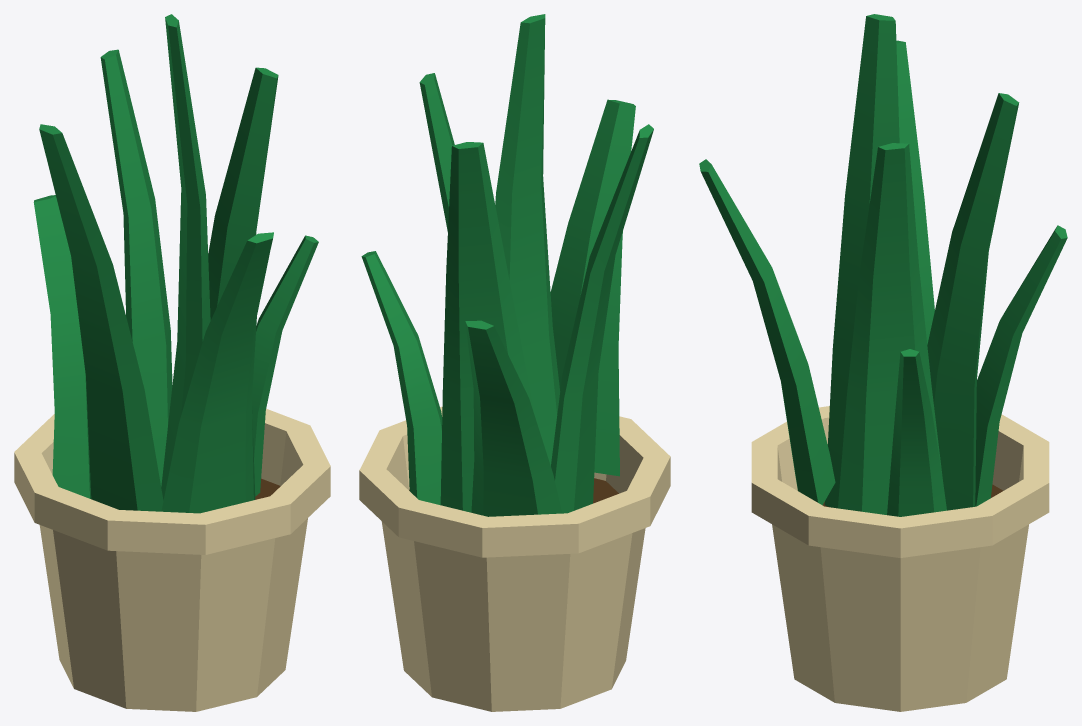
File: fbx_club_plant.fbx
The picture shows the model from 3 angles, left to right: view 1: azimuth 30°, elevation 25°; view 2: azimuth 150°, elevation 25°; view 3: azimuth 270°, elevation 25°; orthographic projection.
Parts seen in each view (by area): view 1: fbx_club_plant; view 2: fbx_club_plant; view 3: fbx_club_plant.
Boxes of the visible parts, x1=… form: fbx_club_plant: x1=14, y1=14, x2=330, y2=711; fbx_club_plant: x1=359, y1=14, x2=670, y2=711; fbx_club_plant: x1=699, y1=14, x2=1067, y2=711.
Bounding box in the file's own units: 0.5136 × 1.12 × 0.5822.
1 material, 1 textured.
